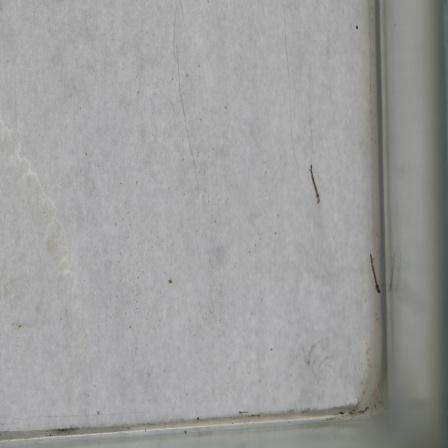Jentik-Nyamuk: (366, 248, 383, 299), (305, 162, 323, 208)
